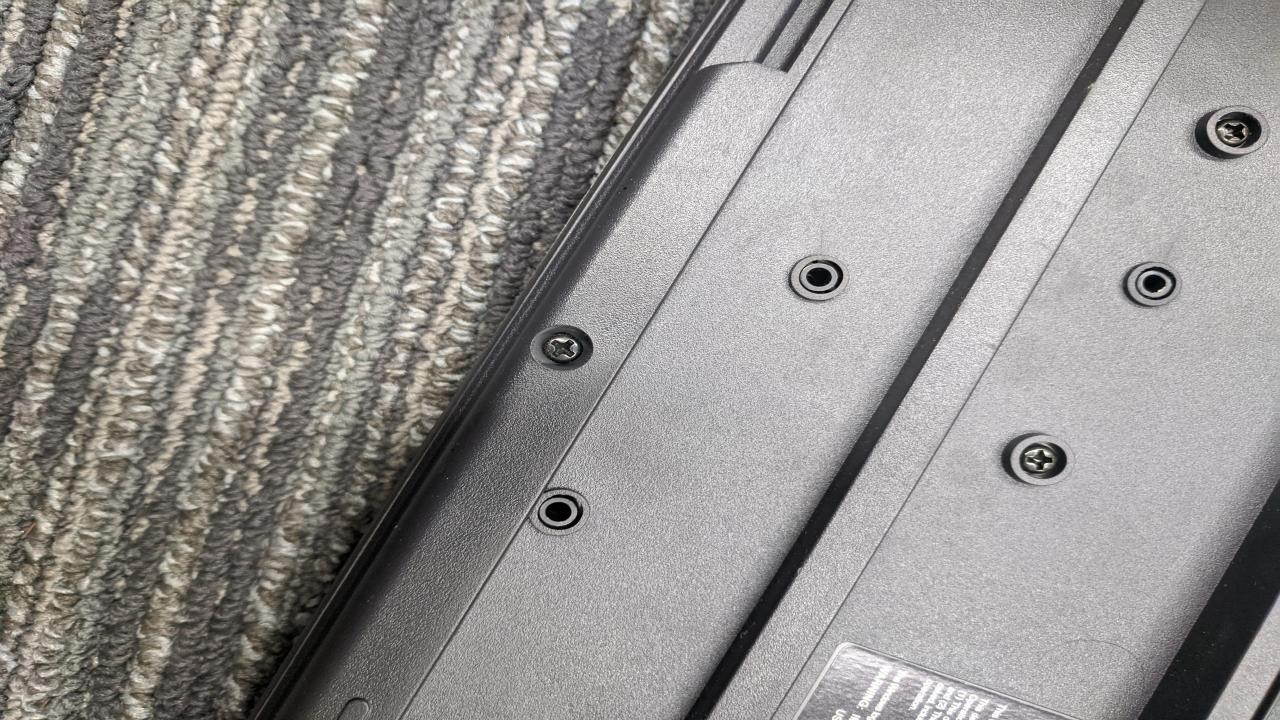CRS: (1213, 119, 1257, 148), (543, 332, 584, 362), (1019, 446, 1059, 475)
